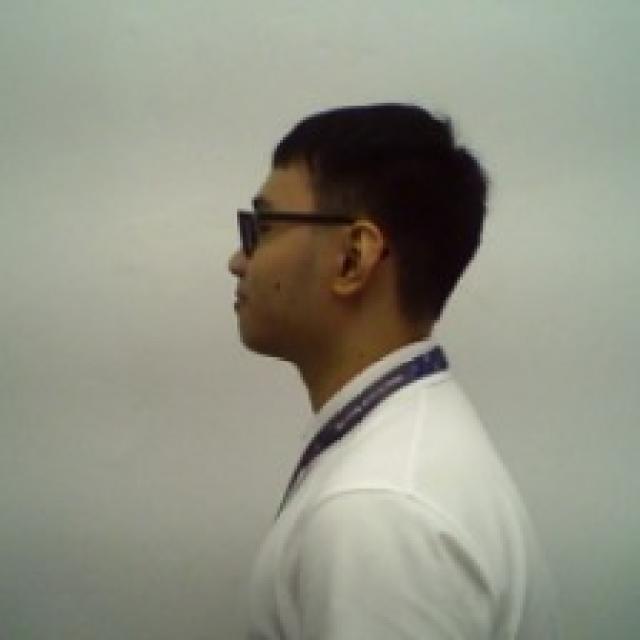no_gloves: (230, 96, 504, 280)
no_hairnet: (216, 205, 405, 356)
